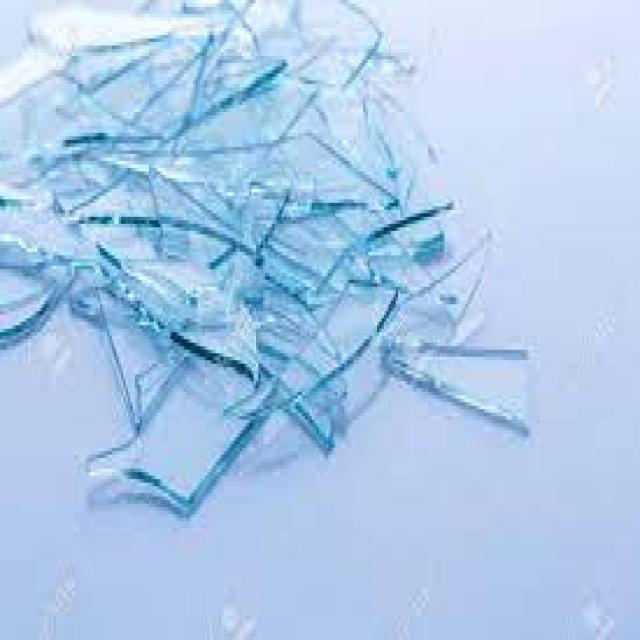glass: (79, 339, 265, 504), (86, 221, 254, 382), (144, 123, 391, 228), (219, 273, 396, 413), (0, 45, 158, 195), (65, 28, 212, 147), (379, 325, 526, 430), (216, 46, 361, 151), (93, 276, 179, 430), (219, 210, 347, 301), (254, 304, 333, 451), (396, 224, 491, 346), (0, 161, 100, 273), (19, 0, 203, 56), (356, 129, 454, 231), (165, 45, 277, 133), (193, 0, 302, 80), (56, 130, 147, 221), (356, 87, 431, 175), (0, 252, 72, 339), (140, 213, 235, 273), (303, 0, 377, 77), (144, 171, 219, 245), (347, 28, 414, 84), (58, 252, 112, 318), (366, 242, 422, 291), (447, 266, 486, 329), (401, 214, 445, 256)
